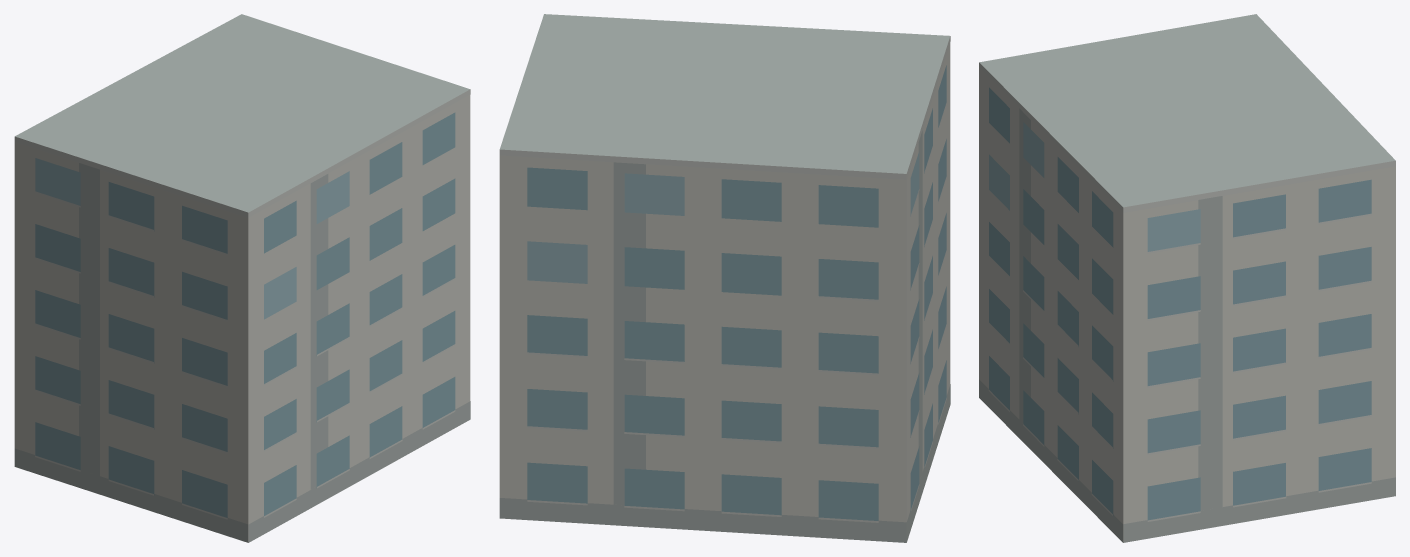
The model's file is survey-upis-32864549.glb.
3 renders of one model, left to right at view 1: azimuth 30°, elevation 25°; view 2: azimuth 150°, elevation 25°; view 3: azimuth 270°, elevation 25°, orthographic. The views are drawn at different scales.
Visible parts, largest first — view 1: survey-upis-32864549.tmp; view 2: survey-upis-32864549.tmp; view 3: survey-upis-32864549.tmp.
Boxes of the visible parts, x1,y1,x2,y2 form: survey-upis-32864549.tmp: [14, 14, 470, 542]; survey-upis-32864549.tmp: [499, 14, 950, 542]; survey-upis-32864549.tmp: [979, 14, 1395, 542].
Bounding box in the file's own units: 18.55 × 15 × 16.9.
